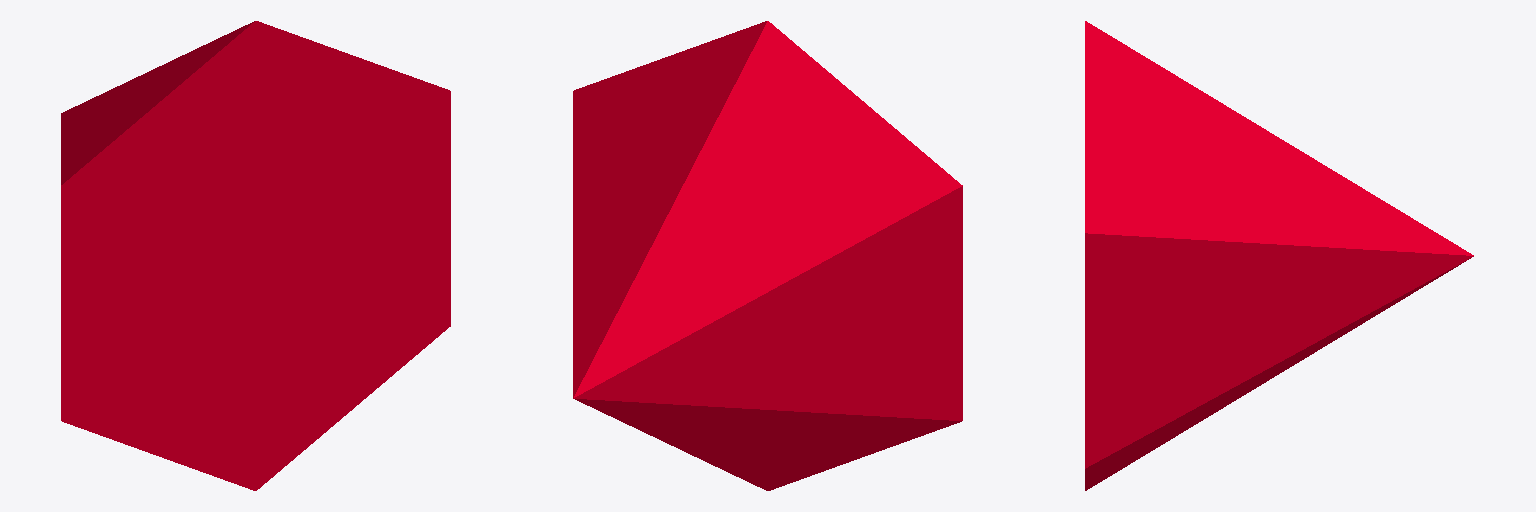
The robot description file, URDF, robot "hexagonal_pyramid.urdf":
<?xml version="1.0" ?>
<robot name="hexagonal_pyramid.urdf">

  <link name="hexagonal_pyramid">
    <contact>
    	<friction_anchor/>
    	   <lateral_friction value="1.0"/>
    </contact>
    <inertial>
      <origin rpy="0 0 0" xyz="0 0 0"/>
       <mass value=".1"/>
       <inertia ixx="1" ixy="0" ixz="0" iyy="1" iyz="0" izz="1"/>
    </inertial>
    <visual>
      <origin rpy="0 0 0" xyz="0 0 0"/>
      <geometry>
				<mesh filename="hexagonal_pyramid.obj" scale="1.0 1.0 1.0"/>
      </geometry>
       <material name="red">
        <color rgba="0.9 0 0.2 1.0"/>
      </material>
    </visual>
    <collision>
      <origin rpy="0 0 0" xyz="0 0 0"/>
      <geometry>
				<mesh filename="hexagonal_pyramid.obj" scale="1.0 1.0 1.0"/>
      </geometry>
    </collision>
  </link>


</robot>

--- What the picture shows (computed from the rendered views, not written in the file) ---
The picture shows the robot from 3 angles, left to right: view 1: azimuth 30°, elevation 25°; view 2: azimuth 150°, elevation 25°; view 3: azimuth 270°, elevation 25°; orthographic projection.
Model hexagonal_pyramid.urdf with 1 links and 0 joints (none), rooted at hexagonal_pyramid, posed every joint at zero.
Links seen in each view (by area): view 1: hexagonal_pyramid; view 2: hexagonal_pyramid; view 3: hexagonal_pyramid.
Link boxes in pixels (x1,y1,x2,y2): hexagonal_pyramid: [61, 21, 450, 490]; hexagonal_pyramid: [573, 21, 962, 490]; hexagonal_pyramid: [1085, 21, 1473, 490].
Bounding box of the posed robot: 0.1169 × 0.1013 × 0.135 m (x, y, z).
Meshes: 1 distinct files referenced, 1 mesh visuals loaded (1 OBJ).